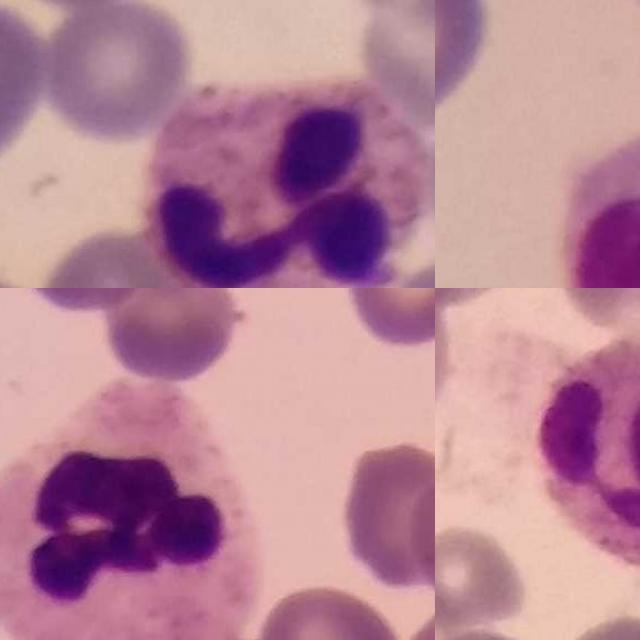Monocyte: (558, 104, 640, 288)
Neutrophil: (0, 377, 265, 640), (145, 80, 422, 288), (534, 335, 640, 568)
